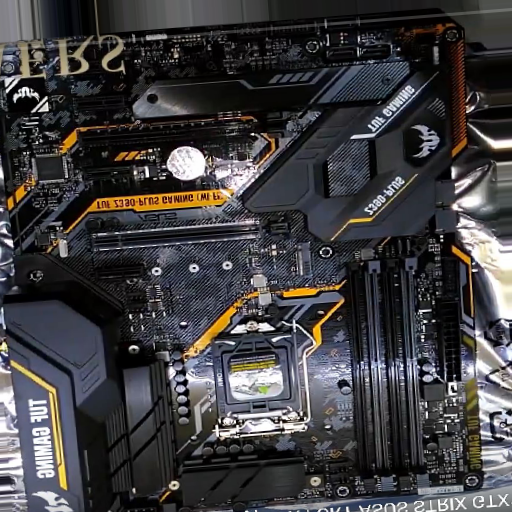CPU: (210, 320, 308, 441)
GPU: (77, 109, 290, 153), (90, 215, 295, 255)
MOTHERBOARD: (1, 13, 478, 512)
RAM: (351, 257, 427, 496)
SSD: (294, 241, 314, 273)
